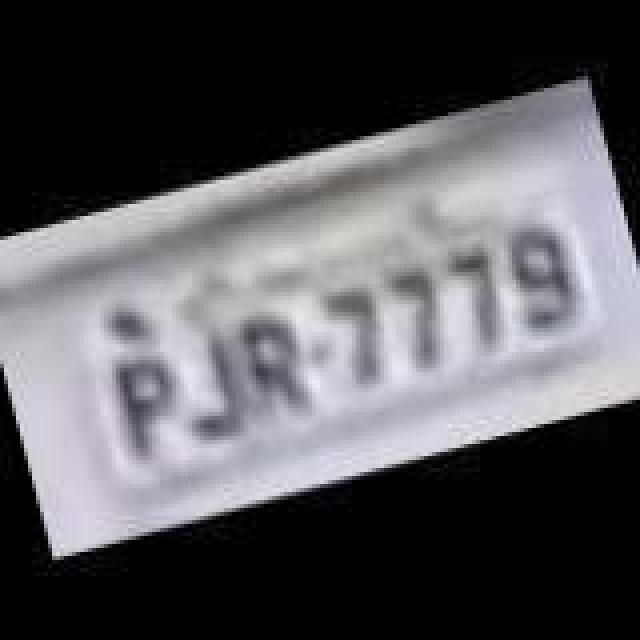7: (438, 242, 522, 362), (312, 280, 392, 396), (378, 262, 454, 374)
9: (498, 216, 590, 336)
J: (170, 326, 254, 446)
P: (110, 344, 194, 464)
R: (230, 310, 314, 430)
